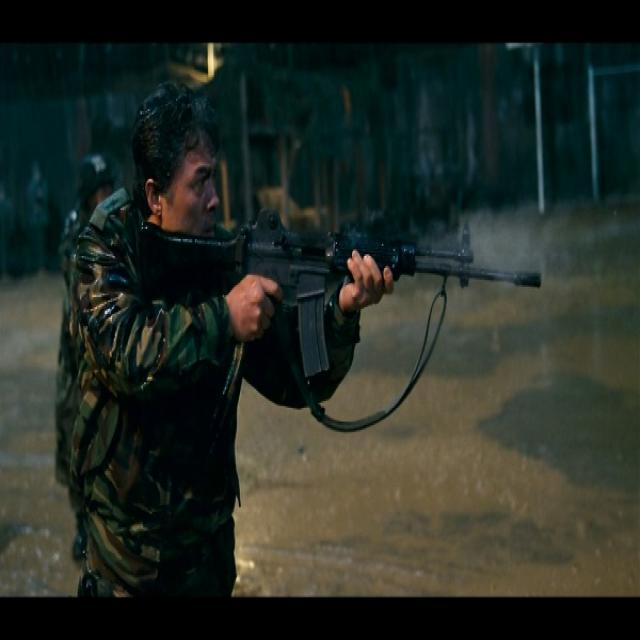weapon: (139, 215, 546, 384)
